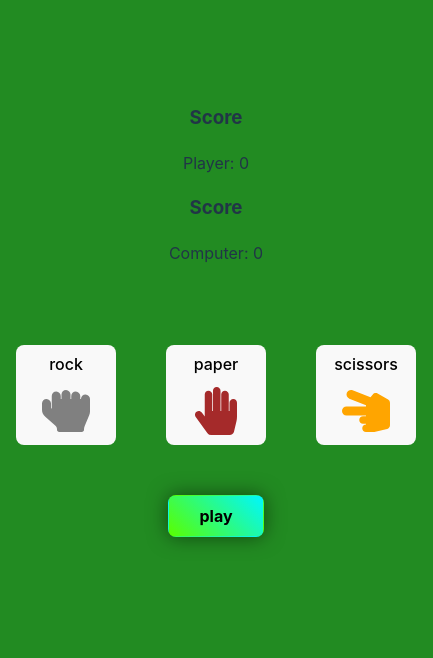
Test: Score And Result › Should display the Computer Winner after timer goes off in 3 seconds
Expected: the button "play" is shown, [168,494,264,536]
Click the button "scissors" at (366, 394), box [316,344,416,444]
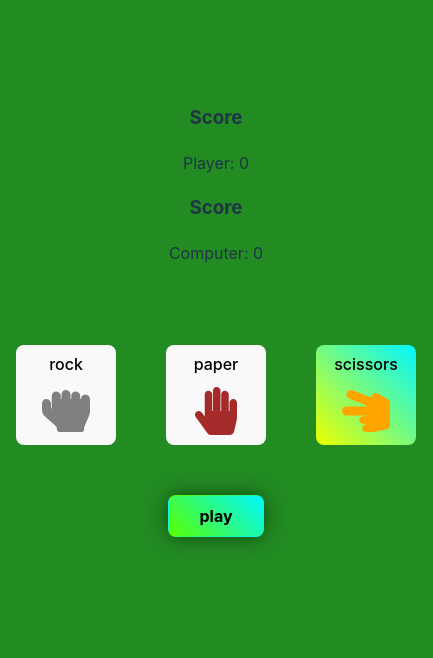
Click the button "play" at (216, 516), box [168,494,264,536]
Wait 3000 ms
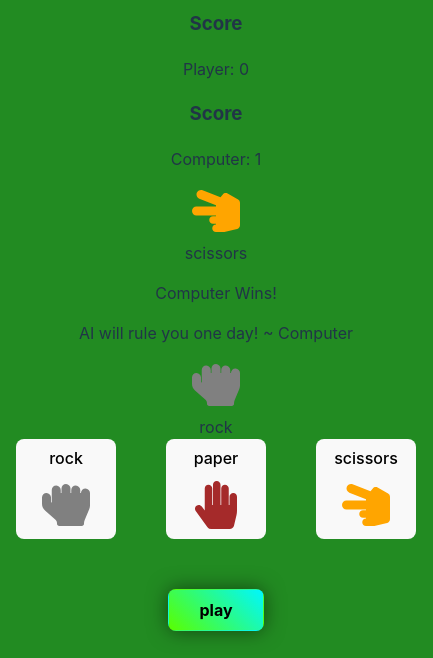
Result: the text "Computer Wins!" is shown at [155,282,277,302]
Result: the text "AI will rule you one day! ~ Computer" is shown at [79,322,353,342]
Result: the text "Computer: 1" is shown at [171,148,261,168]
